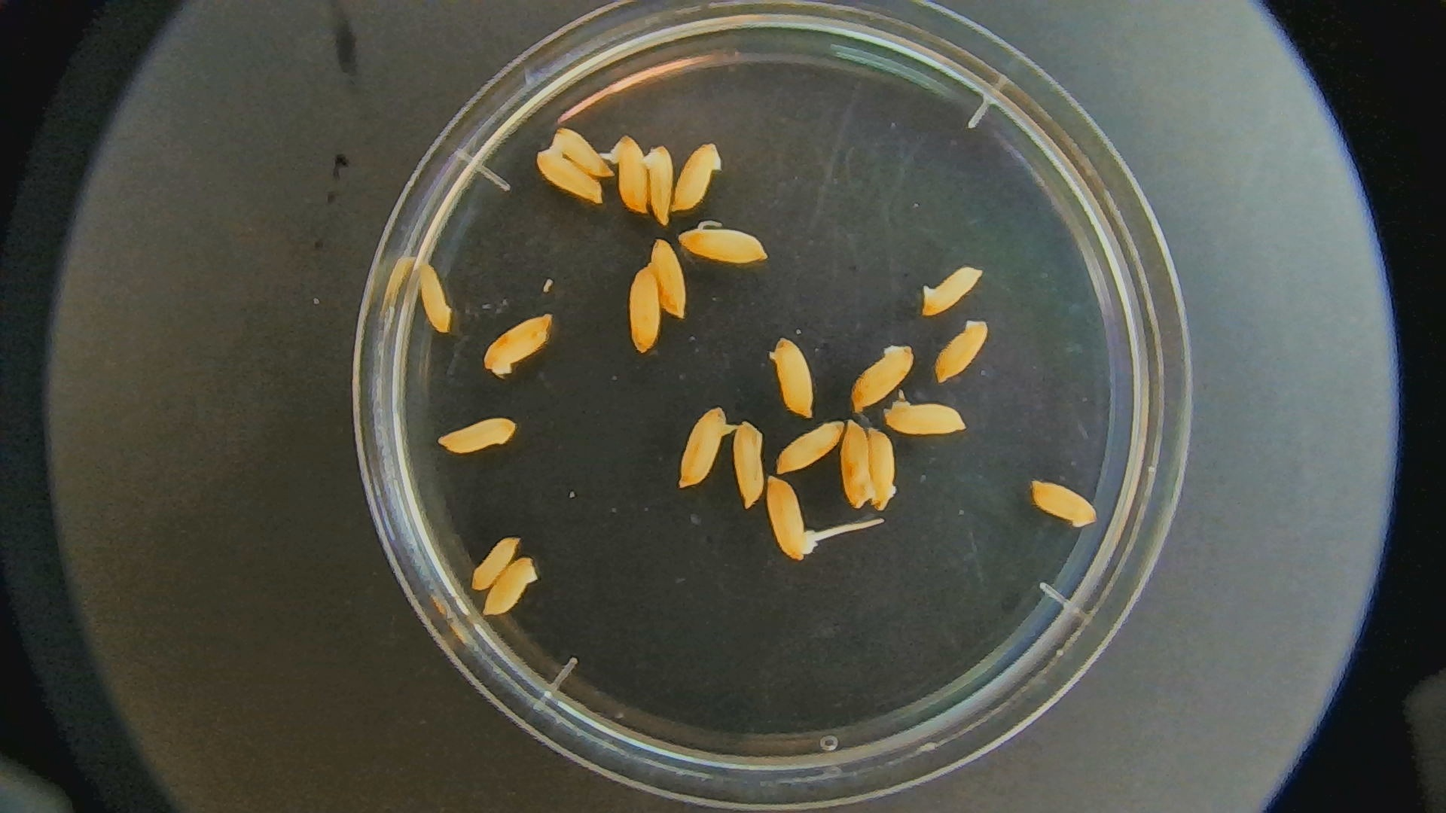no: (477, 309, 557, 379), (850, 343, 914, 416), (679, 406, 735, 489), (532, 146, 603, 204), (767, 335, 816, 419), (551, 122, 618, 183), (883, 391, 969, 437), (773, 418, 844, 473), (671, 139, 724, 212), (919, 261, 985, 319), (1027, 475, 1099, 528), (932, 318, 989, 383), (840, 417, 879, 507), (484, 557, 541, 618), (433, 415, 518, 455), (415, 255, 454, 337), (469, 533, 521, 592), (731, 422, 767, 507), (651, 236, 686, 317), (629, 266, 660, 355), (868, 425, 898, 513), (644, 144, 676, 226)
yes: (763, 475, 816, 560), (674, 224, 767, 266), (612, 130, 654, 216)
